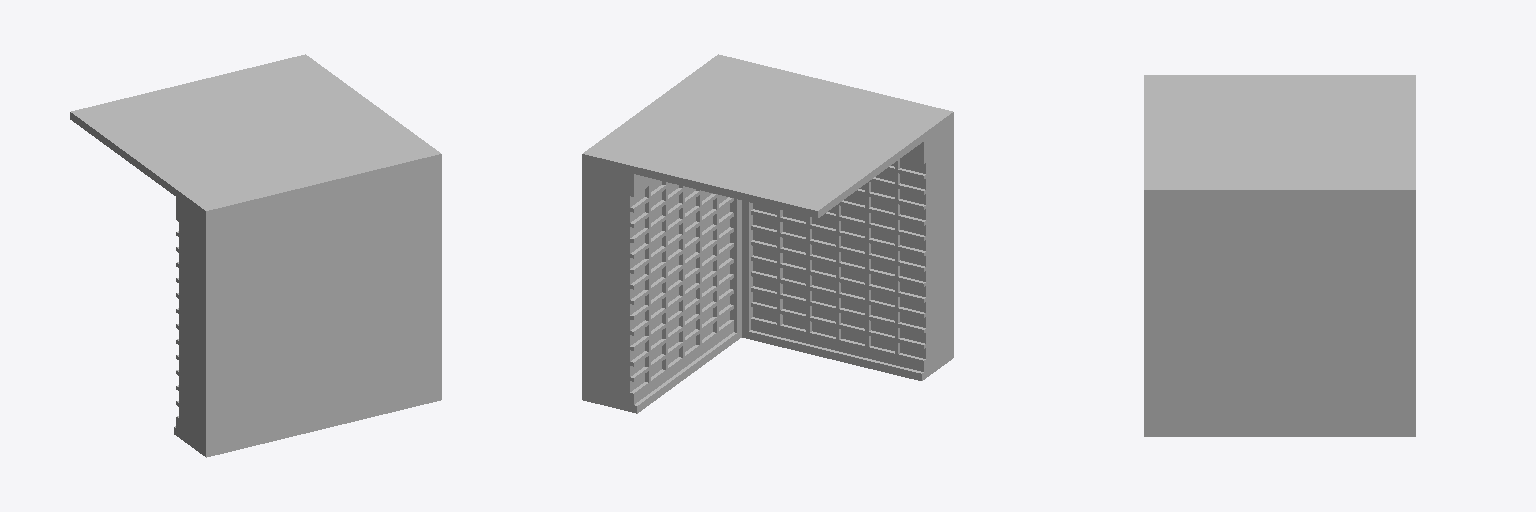
Rendered from Menu Scene 03-20.obj.
The picture shows the model from 3 angles: view 1: azimuth 30°, elevation 25°; view 2: azimuth 150°, elevation 25°; view 3: azimuth 270°, elevation 25°; orthographic projection.
Parts seen in each view (by area): view 1: Menu Scene 03-20; view 2: Menu Scene 03-20; view 3: Menu Scene 03-20.
Boxes of the visible parts, x1,y1,x2,y2 form: Menu Scene 03-20: [70, 54, 441, 457]; Menu Scene 03-20: [582, 54, 953, 413]; Menu Scene 03-20: [1144, 75, 1415, 436].
Size of the model in its own units: 64 by 64 by 64.